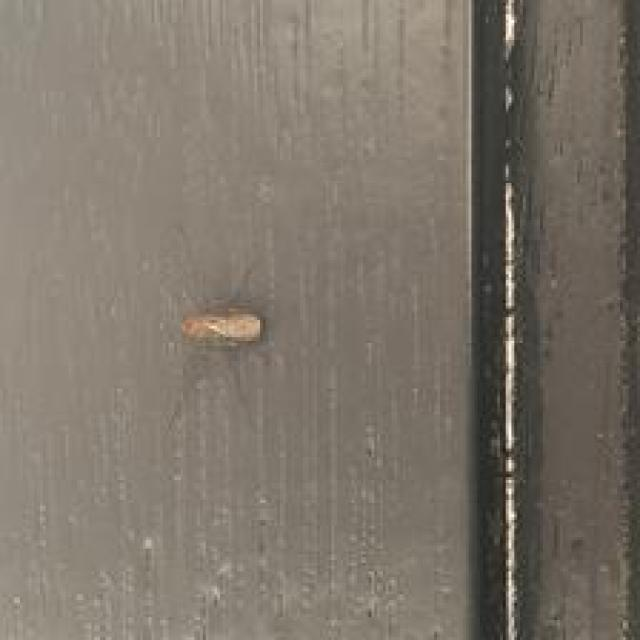Culex: (182, 304, 264, 347)
